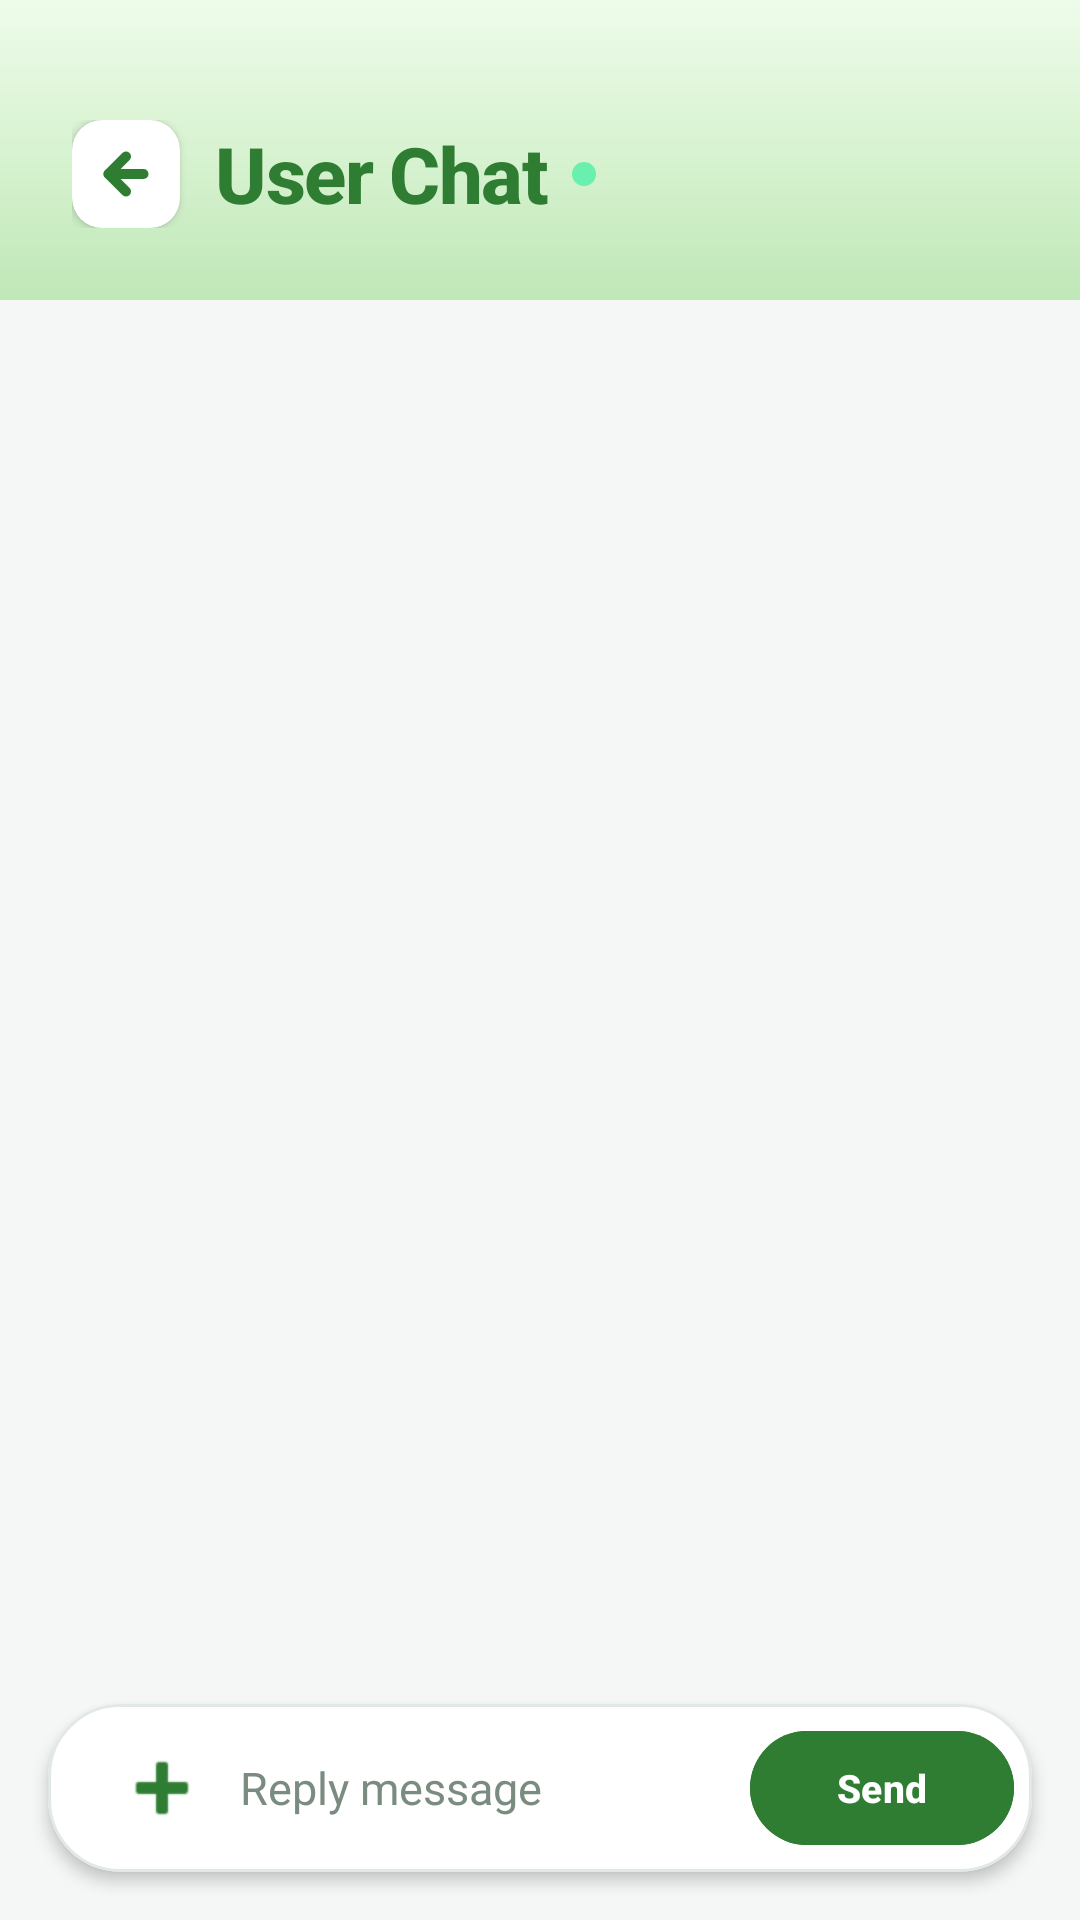

Named icons in this screenshot (1080 x 1920) and their bounding boxes, bbox=[x1, y1, x2, y2]:
Go Back: bbox=[103, 151, 149, 197]
